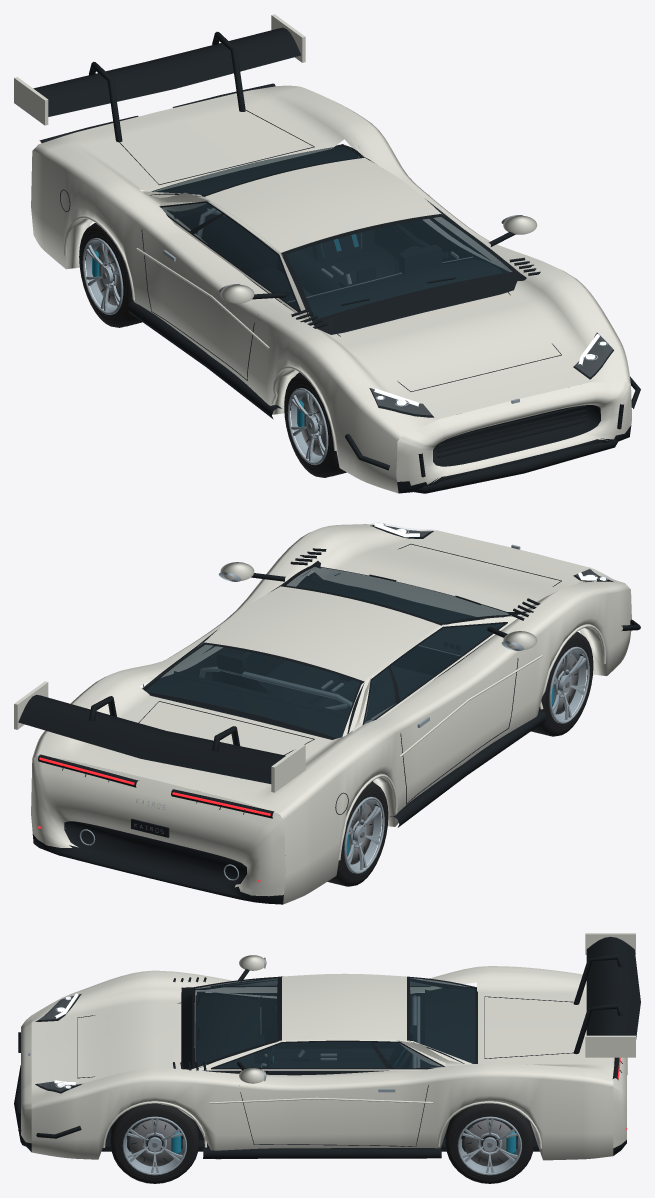
Rendered from gtx-lod0.glb.
3 views of the same model, one above another, from view 1: azimuth 30°, elevation 25°; view 2: azimuth 150°, elevation 25°; view 3: azimuth 270°, elevation 25° (orthographic). The views are drawn at different scales.
Parts seen in each view (by area): view 1: sculpted-coachwork_merged, carbon-rear-valance_merged, panoramic-windscreen_merged, rim-barrel_merged (×2), profiled-tire_merged (×2), headlamp-clear-lens_merged, door-release_merged; view 2: sculpted-coachwork_merged, carbon-rear-valance_merged, panoramic-windscreen_merged, rim-barrel_merged (×2), profiled-tire_merged (×2), door-release_merged, wheel-valve-cap_merged (×2), rear-light-guide_merged; view 3: sculpted-coachwork_merged, carbon-rear-valance_merged, panoramic-windscreen_merged, profiled-tire_merged (×2), rim-barrel_merged (×2), wheel-valve-cap_merged (×2), door-release_merged, headlamp-clear-lens_merged.
Boxes of the visible parts, x1,y1,x2,y2 form: sculpted-coachwork_merged: (14,14,631,493); carbon-rear-valance_merged: (33,27,640,493); panoramic-windscreen_merged: (153,146,512,319); rim-barrel_merged (×2): (82,238,328,465); profiled-tire_merged (×2): (79,223,346,477); headlamp-clear-lens_merged: (370,331,613,414); door-release_merged: (163,194,607,406); sculpted-coachwork_merged: (14,524,631,904); carbon-rear-valance_merged: (18,525,640,904); panoramic-windscreen_merged: (145,566,508,738); rim-barrel_merged (×2): (344,646,589,873); profiled-tire_merged (×2): (327,631,593,886); door-release_merged: (79,522,607,880); wheel-valve-cap_merged (×2): (348,653,584,864); rear-light-guide_merged: (38,757,270,882); sculpted-coachwork_merged: (21,933,635,1160); carbon-rear-valance_merged: (14,936,640,1158); panoramic-windscreen_merged: (194,978,475,1068); profiled-tire_merged (×2): (110,1103,534,1183); rim-barrel_merged (×2): (122,1116,521,1175); wheel-valve-cap_merged (×2): (129,1119,511,1166); door-release_merged: (28,957,419,1092); headlamp-clear-lens_merged: (36,992,81,1091).
Bounding box in the file's own units: 2.33 × 1.35 × 4.96.
